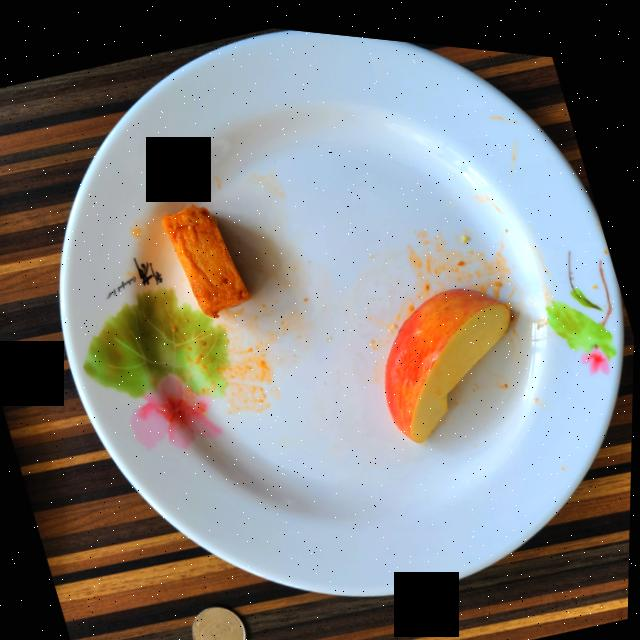apple -sliced-: (386, 278, 512, 432)
coin: (195, 600, 249, 640)
creamy tofu: (163, 199, 252, 312)
